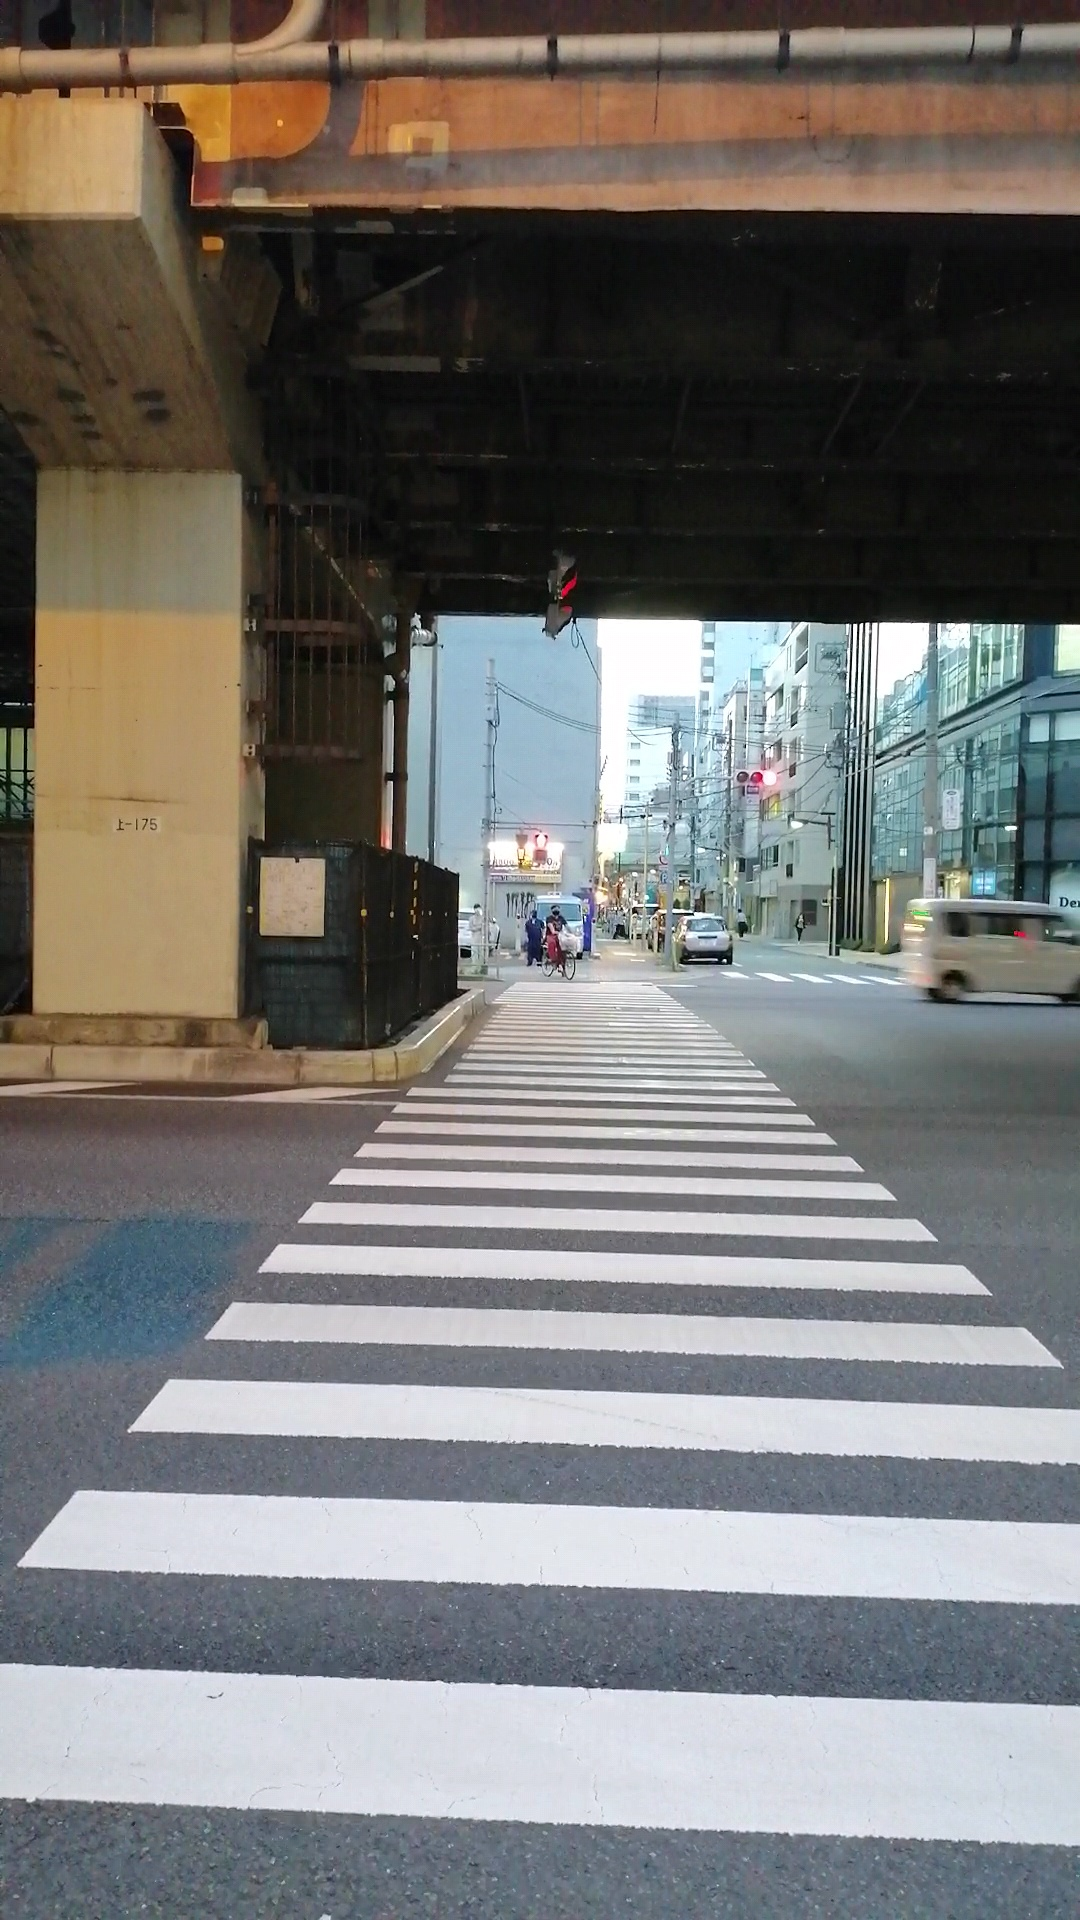red: (531, 832, 549, 869)
